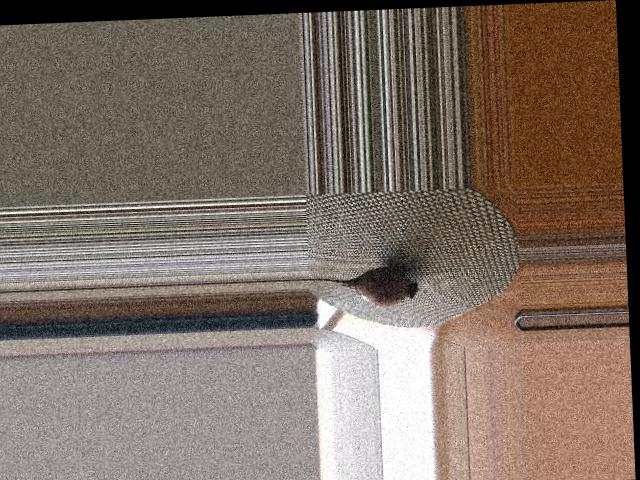beet: (309, 266, 419, 309)
